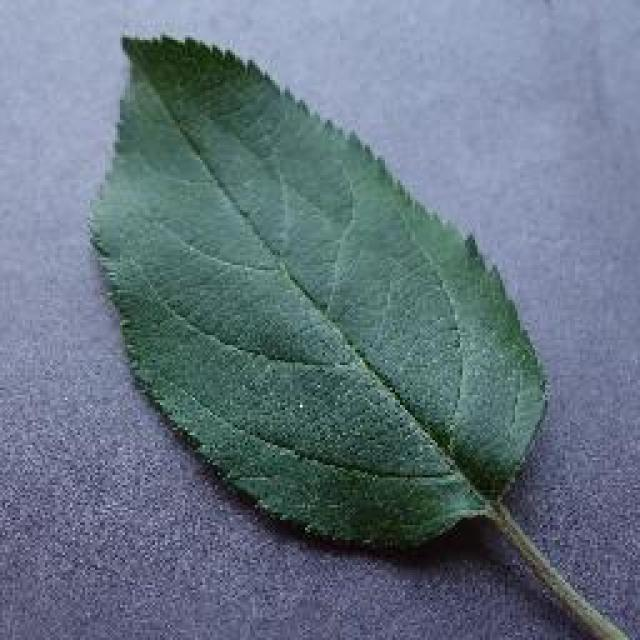apple healthy: (85, 28, 637, 638)
